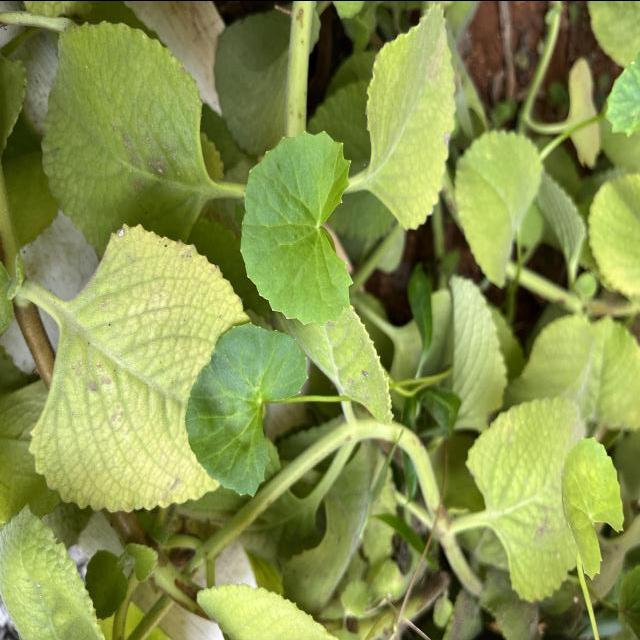Centella asiatica: (236, 126, 358, 330), (182, 317, 312, 500), (558, 432, 628, 584)
